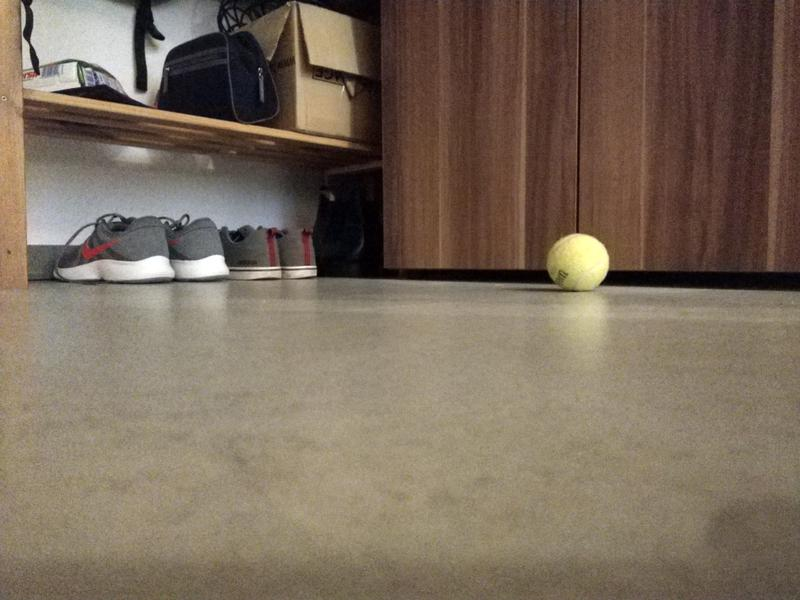Tennisball: (545, 231, 611, 295)
